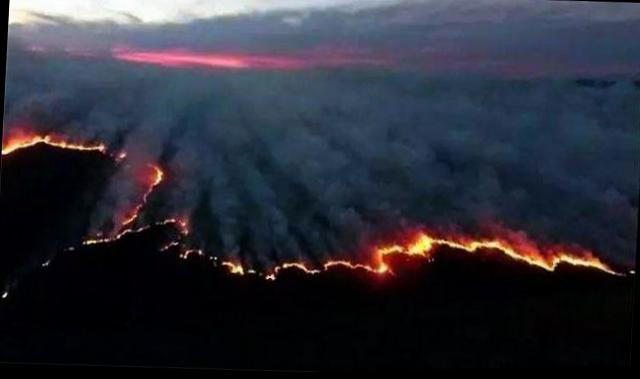fire: (1, 126, 192, 252), (367, 225, 630, 285), (175, 246, 364, 284)
